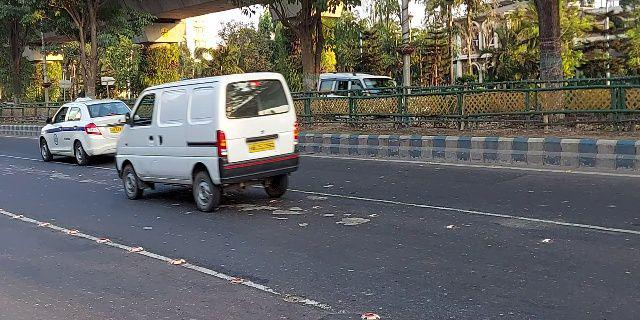Car: (33, 97, 133, 164)
Van: (113, 71, 301, 216)
